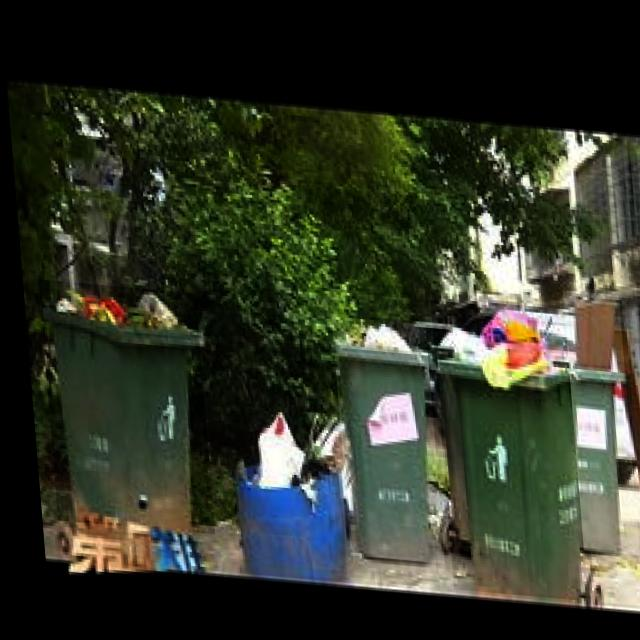overflow: (426, 293, 586, 591), (34, 279, 206, 531), (326, 311, 436, 556), (220, 398, 339, 577), (559, 280, 632, 544)
